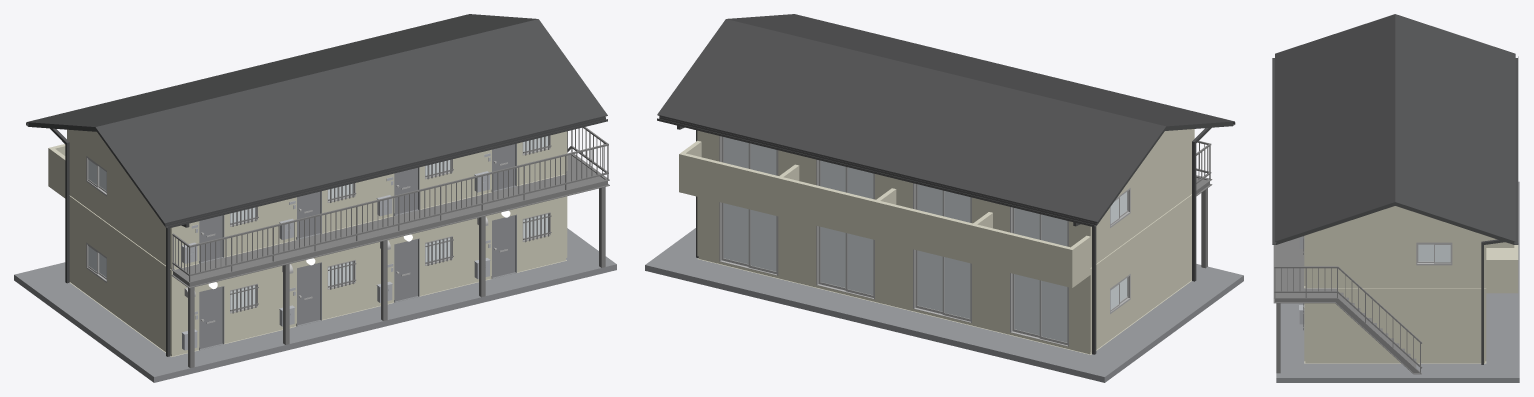
The model's file is apartment-exterior.glb.
3 renders of one model, left to right at view 1: azimuth 30°, elevation 25°; view 2: azimuth 150°, elevation 25°; view 3: azimuth 270°, elevation 25°, orthographic. The views are drawn at different scales.
Visible parts, largest first — view 1: オブジェクト_117, オブジェクト_17, オブジェクト_18, オブジェクト_36, オブジェクト_139, オブジェクト_168, オブジェクト_178, オブジェクト_173, オブジェクト_163, オブジェクト_138, オブジェクト_143, オブジェクト_153 (+5 smaller); view 2: オブジェクト_117, オブジェクト_17, オブジェクト_35, オブジェクト_36, オブジェクト_140, オブジェクト_131, オブジェクト_121, オブジェクト_126, オブジェクト_136, オブジェクト_122, オブジェクト_137, オブジェクト_127 (+13 smaller); view 3: オブジェクト_117, オブジェクト_17, オブジェクト_36, オブジェクト_18, オブジェクト_35, オブジェクト_138, オブジェクト_140, オブジェクト_139, オブジェクト_37, オブジェクト_84, オブジェクト_82, オブジェクト_83.
Boxes of the visible parts, x1,y1,x2,y2 form: オブジェクト_117: (26,14,607,223); オブジェクト_17: (67,129,567,356); オブジェクト_18: (171,127,609,368); オブジェクト_36: (14,228,616,382); オブジェクト_139: (165,117,607,228); オブジェクト_168: (297,263,320,324); オブジェクト_178: (492,216,515,277); オブジェクト_173: (395,239,417,301); オブジェクト_163: (200,287,222,348); オブジェクト_138: (28,116,605,226); オブジェクト_143: (492,144,515,190); オブジェクト_153: (297,191,320,238); オブジェクト_117: (657,14,1234,222); オブジェクト_17: (697,129,1194,354); オブジェクト_35: (679,140,1090,287); オブジェクト_36: (645,228,1243,382); オブジェクト_140: (657,117,1096,227); オブジェクト_131: (847,233,873,295); オブジェクト_121: (1041,280,1067,342); オブジェクト_126: (944,257,970,318); オブジェクト_136: (750,210,776,271); オブジェクト_122: (1014,274,1039,335); オブジェクト_137: (723,203,748,264); オブジェクト_127: (917,250,942,311); オブジェクト_117: (1275,14,1515,241); オブジェクト_17: (1304,206,1486,363); オブジェクト_36: (1276,181,1519,382); オブジェクト_18: (1273,237,1422,374); オブジェクト_35: (1486,236,1518,293); オブジェクト_138: (1276,202,1514,244); オブジェクト_140: (1514,56,1518,244); オブジェクト_139: (1272,58,1276,244); オブジェクト_37: (1481,239,1504,364); オブジェクト_84: (1416,242,1452,265); オブジェクト_82: (1435,245,1450,262); オブジェクト_83: (1418,244,1433,261).
Bounding box in the file's own units: 16.6 × 7.02 × 8.85.
